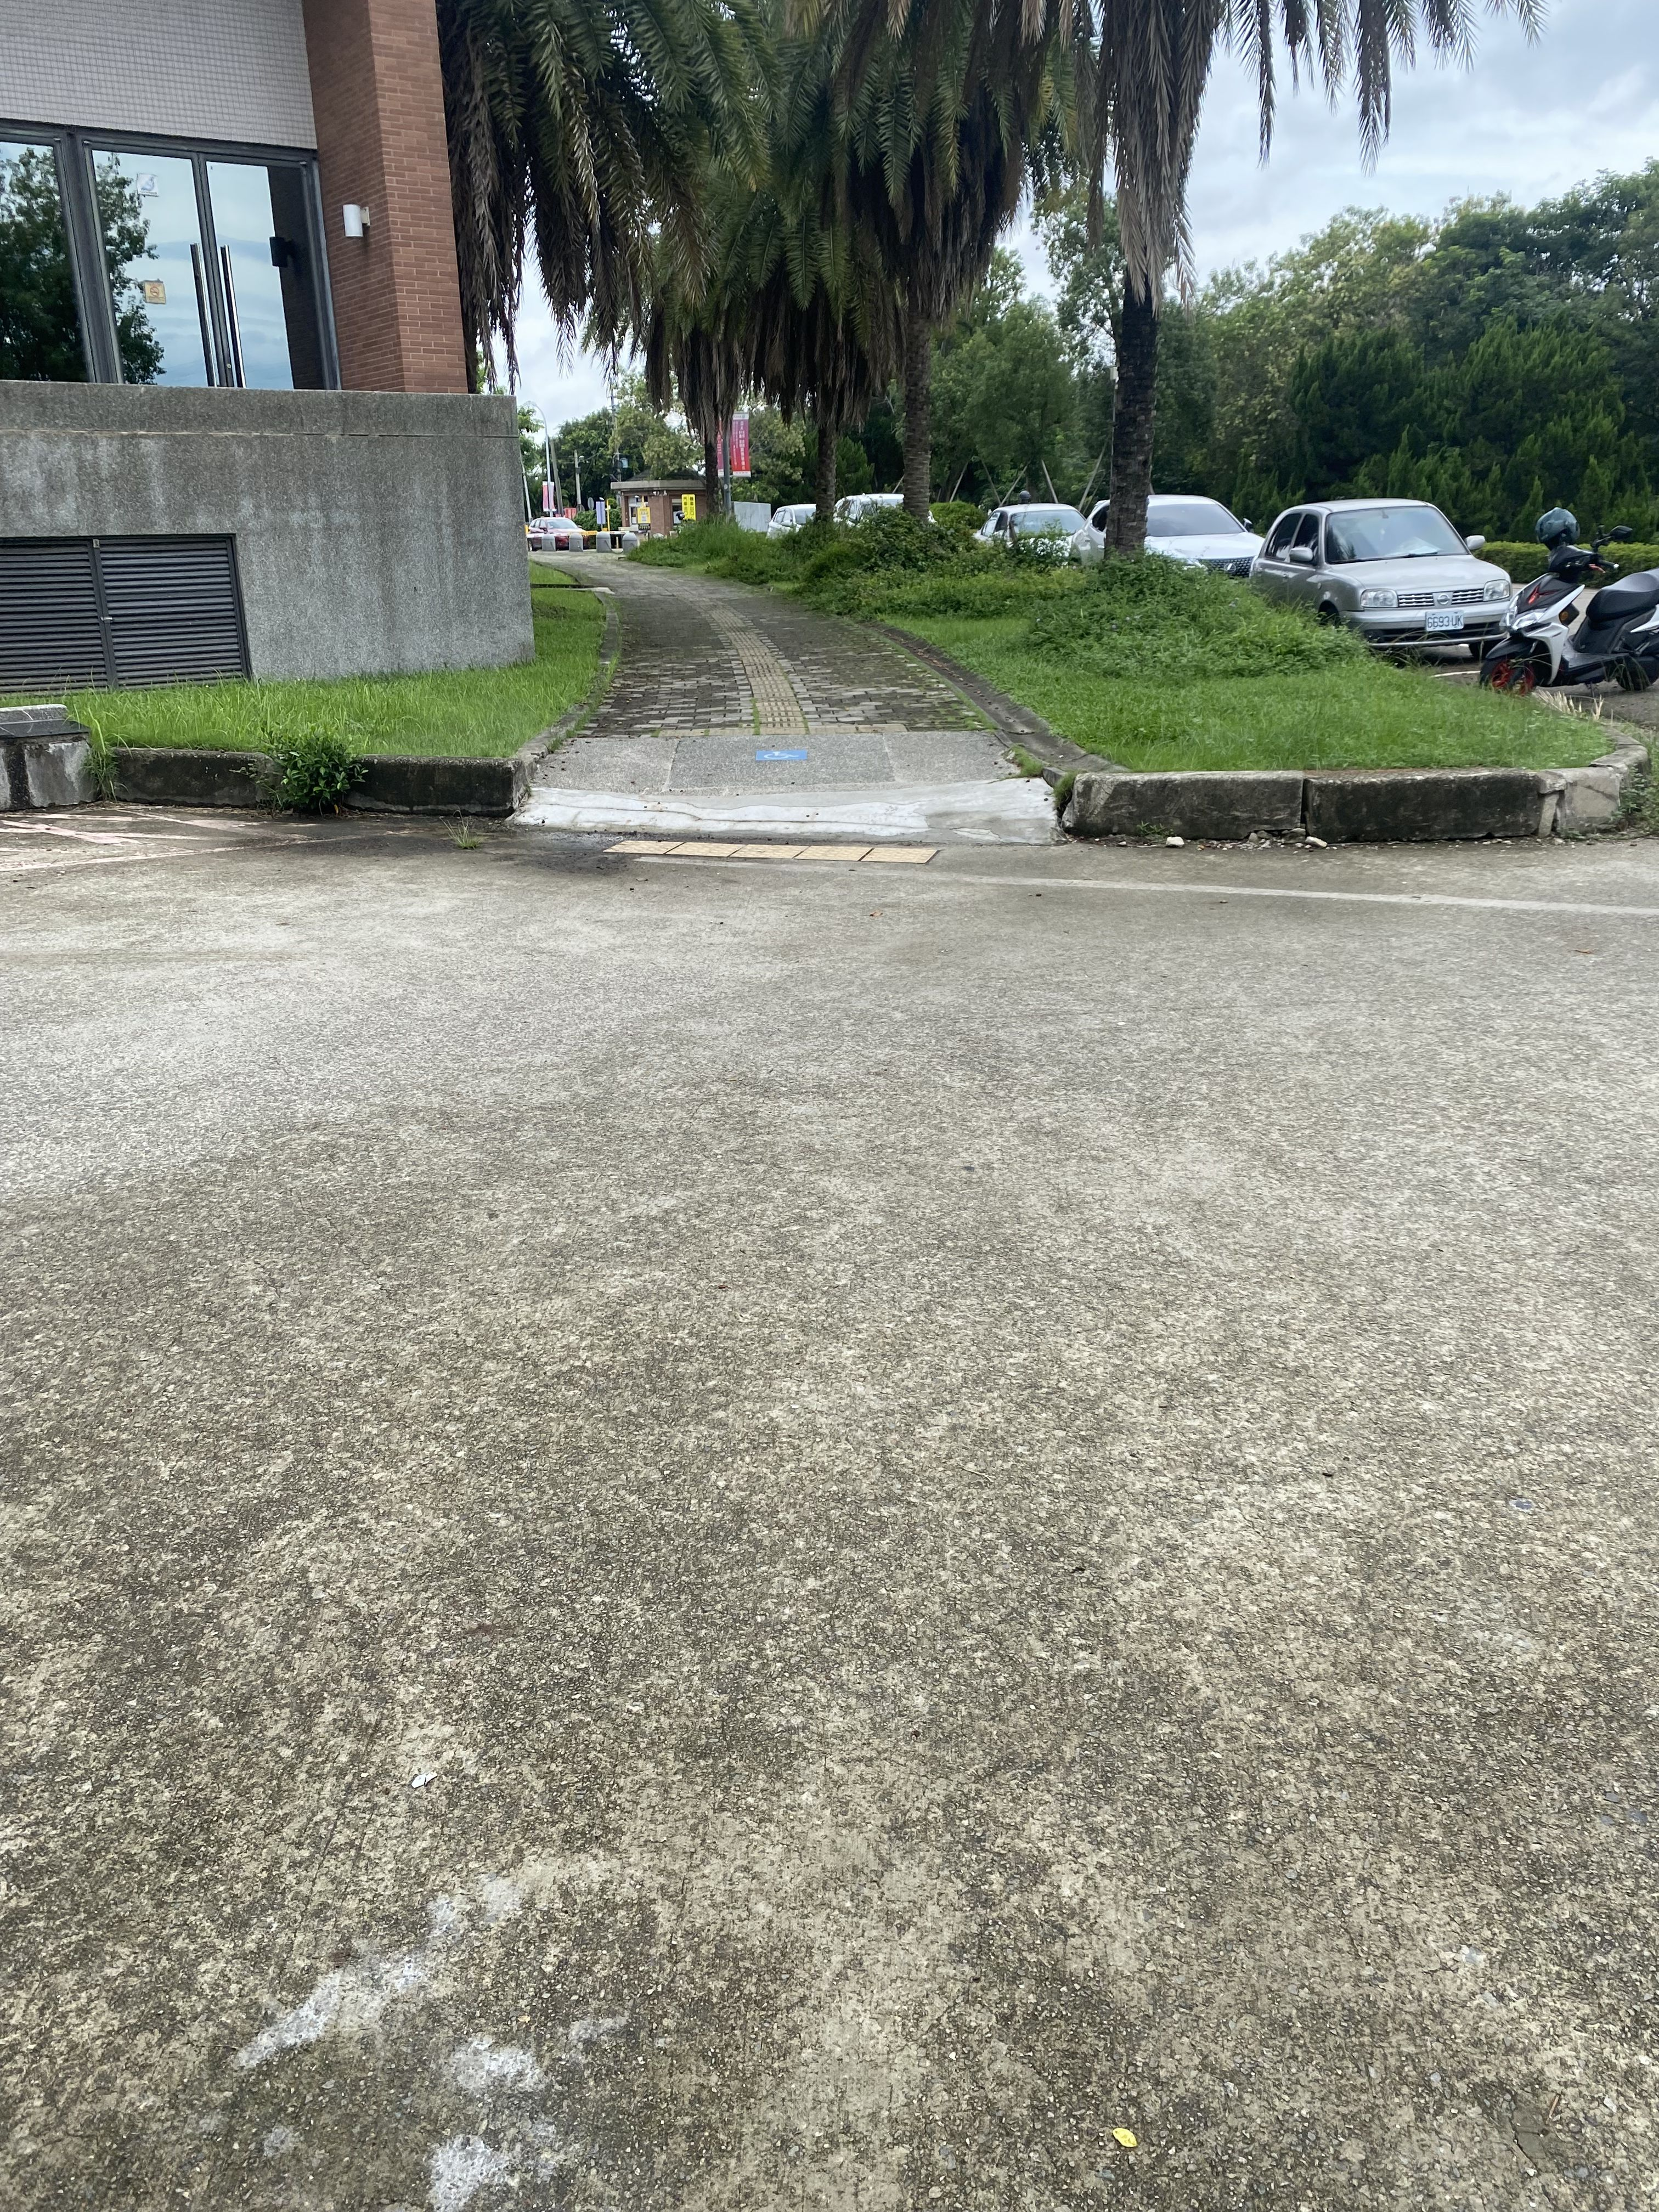sidewalk: (523, 526, 1119, 941)
